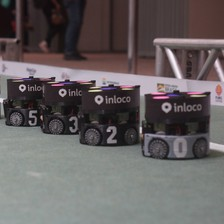robot: (140, 89, 211, 160), (79, 82, 142, 148), (39, 79, 84, 136), (1, 75, 41, 127)
